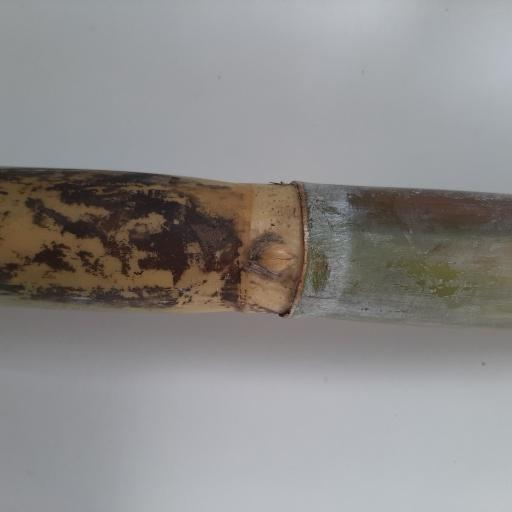Bud: (247, 238, 298, 274)
